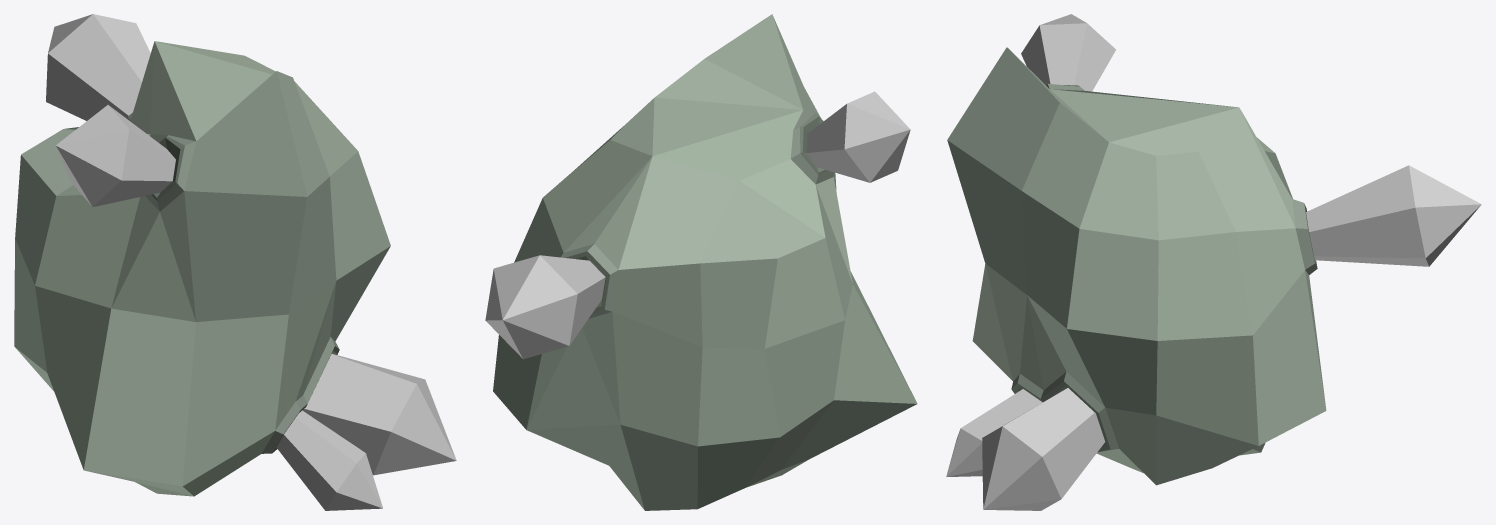
File: Asteroid3.FBX
3 renders of one model, left to right at view 1: azimuth 30°, elevation 25°; view 2: azimuth 150°, elevation 25°; view 3: azimuth 270°, elevation 25°, orthographic. The views are drawn at different scales.
Parts seen in each view (by area): view 1: Asteroid3; view 2: Asteroid3; view 3: Asteroid3.
Part boxes in pixels (left/top/right/bottom): Asteroid3: left=14, top=14, right=456, bottom=510; Asteroid3: left=485, top=14, right=917, bottom=510; Asteroid3: left=946, top=14, right=1481, bottom=510.
Bounding box in the file's own units: 2.17 × 2.6 × 3.04.
